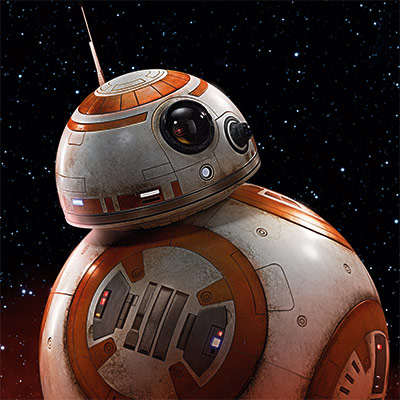bb8: (38, 69, 391, 400)
